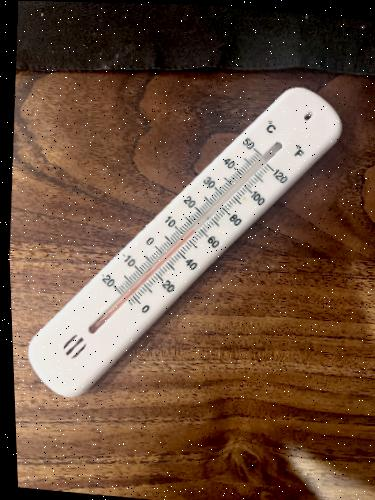thermo: (16, 73, 354, 405)
